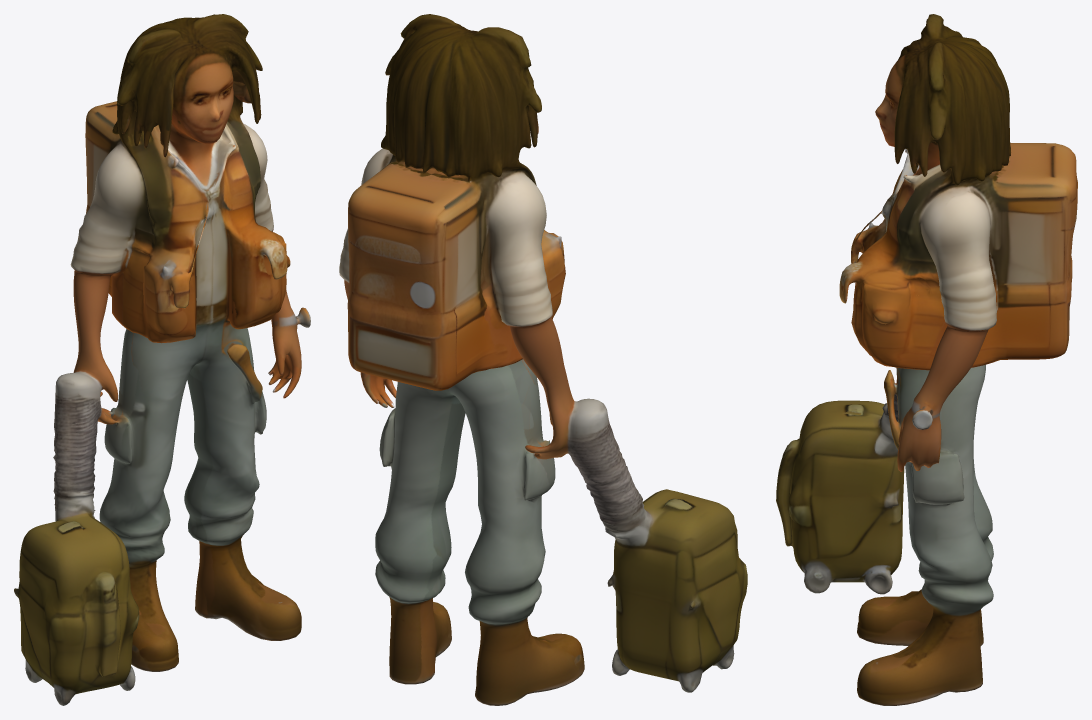
File: realistic-artie.glb
3 views of the same model, side by side, from view 1: azimuth 30°, elevation 25°; view 2: azimuth 150°, elevation 25°; view 3: azimuth 270°, elevation 25° (orthographic). The views are drawn at different scales.
Parts seen in each view (by area): view 1: model; view 2: model; view 3: model.
Part boxes in pixels (box(x1,y1,x2,y2)): model: box(14, 14, 310, 705); model: box(339, 14, 747, 705); model: box(776, 14, 1077, 705).
Size of the model in its own units: 1.02 by 1.9 by 0.8268.
1 material, 1 textured.
